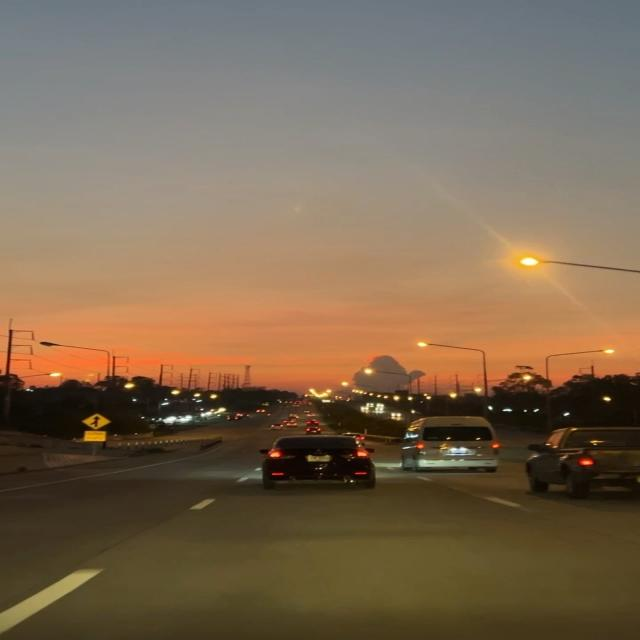Poth-hole: (62, 496, 633, 621)
